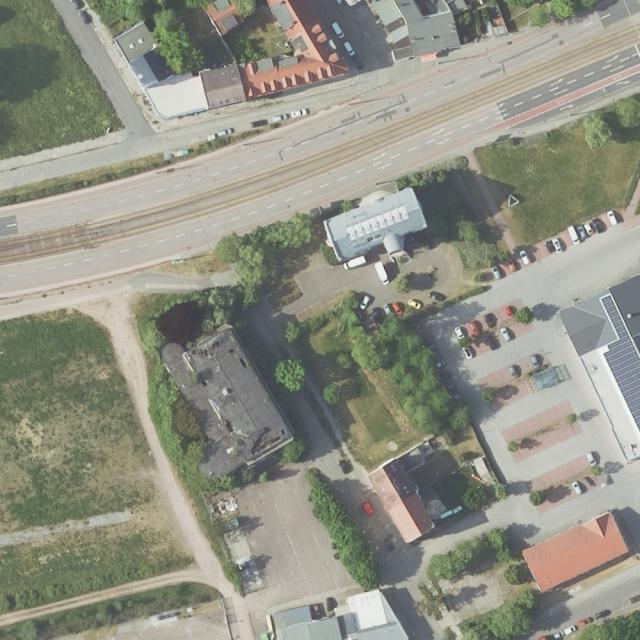PV: (600, 294, 640, 435)
